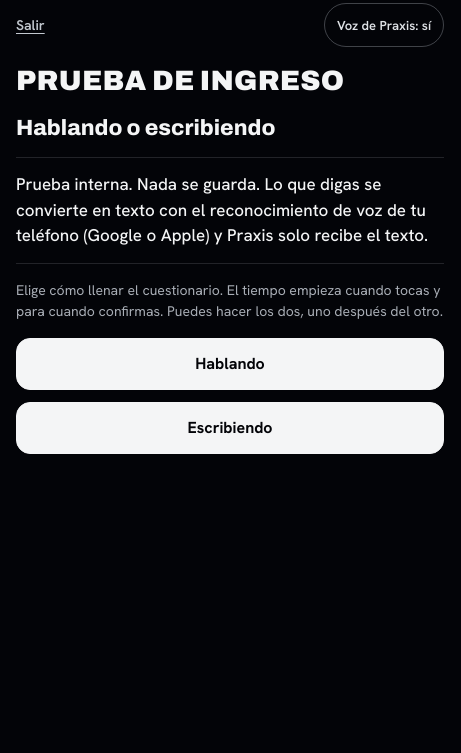
Scenario: el resultado y «Copiar resultado» › no guarda nada en el navegador
Click the button "Escribiendo".
click(230, 428)  # box [16,402,444,454]
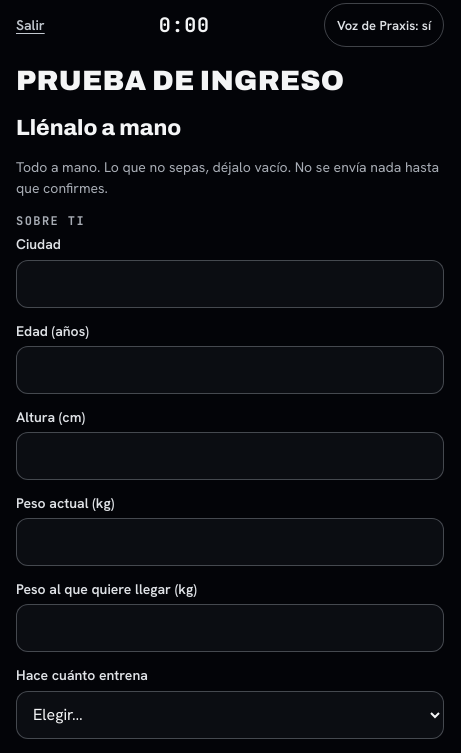
Type "Zipaquirá" into the field labelled "Ciudad".
click(230, 284); type("Zipaquirá")  # box [16,260,444,308]
(page scrolled)
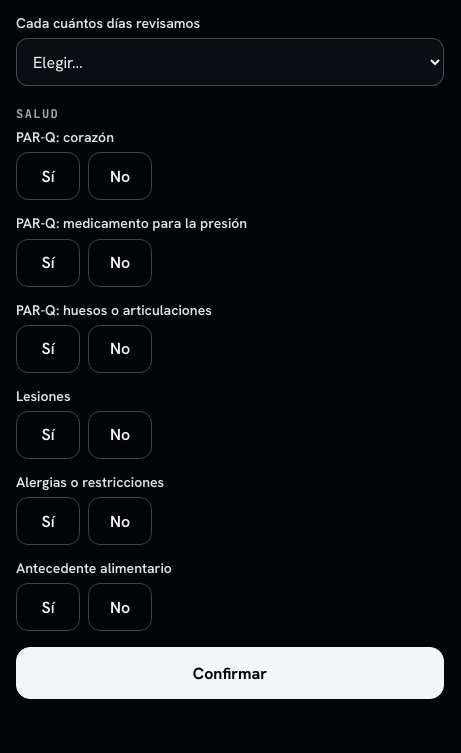
Click the button "Confirmar".
click(230, 673)  # box [16,647,444,699]
(page scrolled)
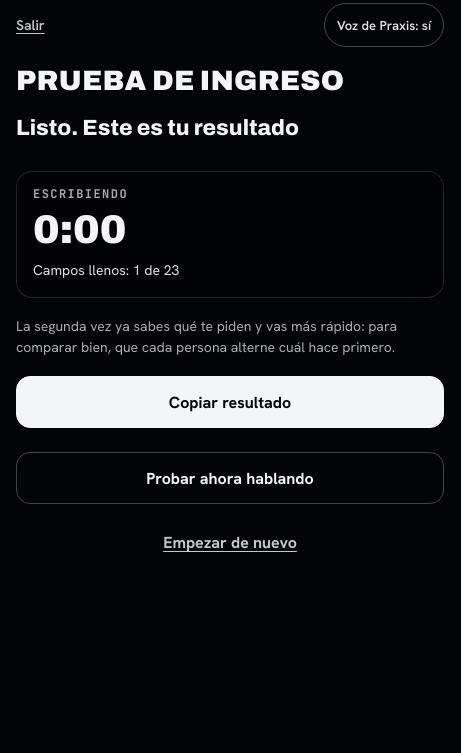
Now the element named "Resultado escribiendo" is shown, box [16,171,444,298]
